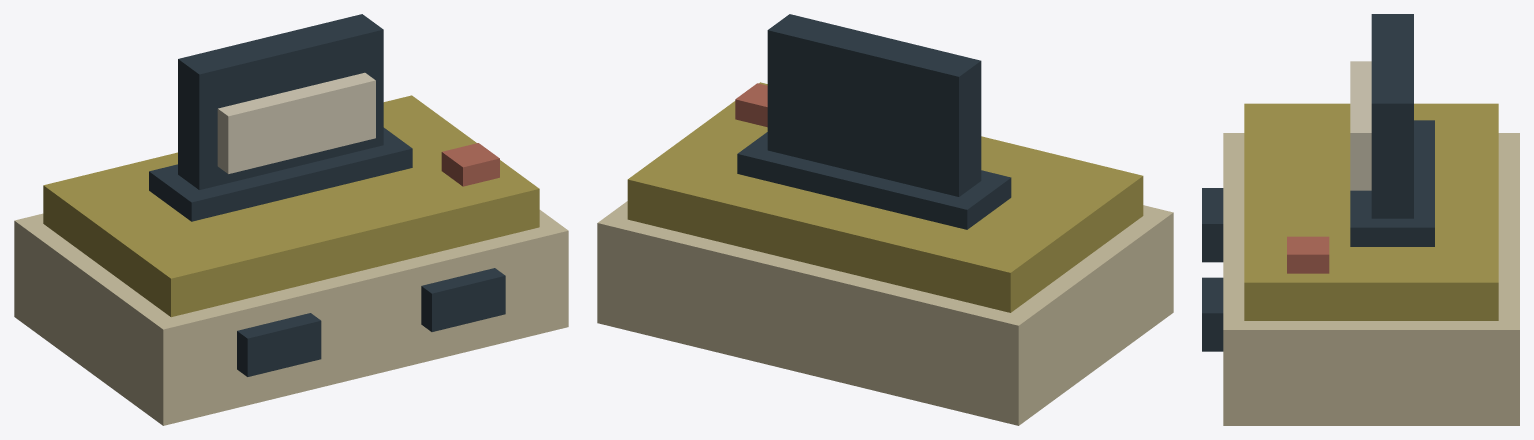
File: energy-08.glb
3 renders of one model, left to right at view 1: azimuth 30°, elevation 25°; view 2: azimuth 150°, elevation 25°; view 3: azimuth 270°, elevation 25°, orthographic. The views are drawn at different scales.
Parts seen in each view (by area): view 1: Control panel; view 2: Control panel; view 3: Control panel.
Part boxes in pixels (x1,y1,x2,y2): Control panel: [14, 14, 568, 425]; Control panel: [597, 14, 1173, 425]; Control panel: [1202, 14, 1519, 425].
Size of the model in its own units: 1.76 by 1.12 by 1.2.
